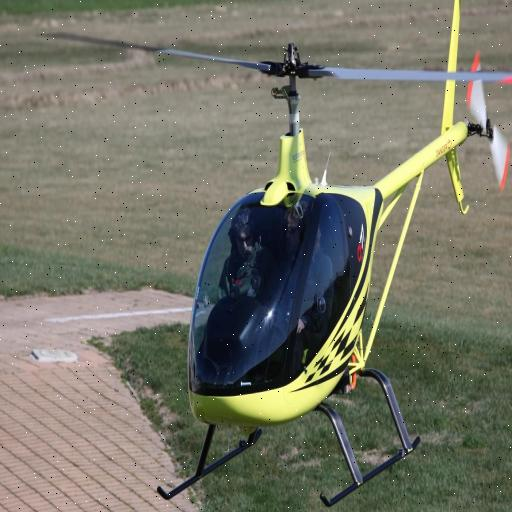helicopter: (86, 1, 512, 506)
